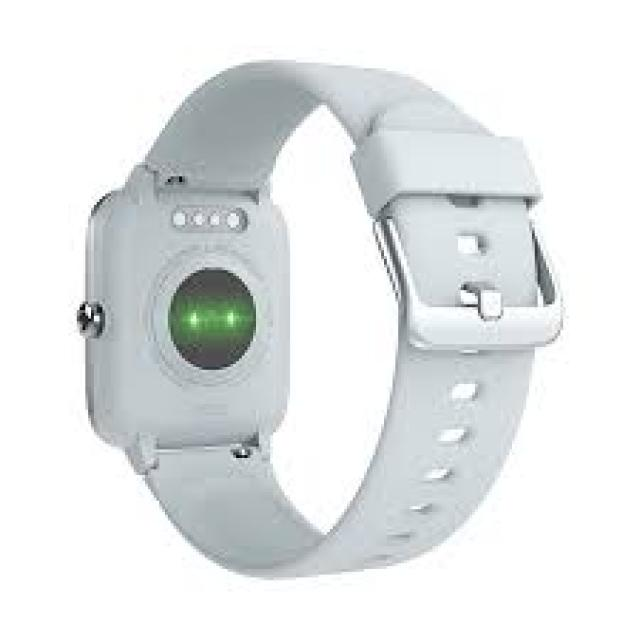objects: (77, 63, 563, 584)
